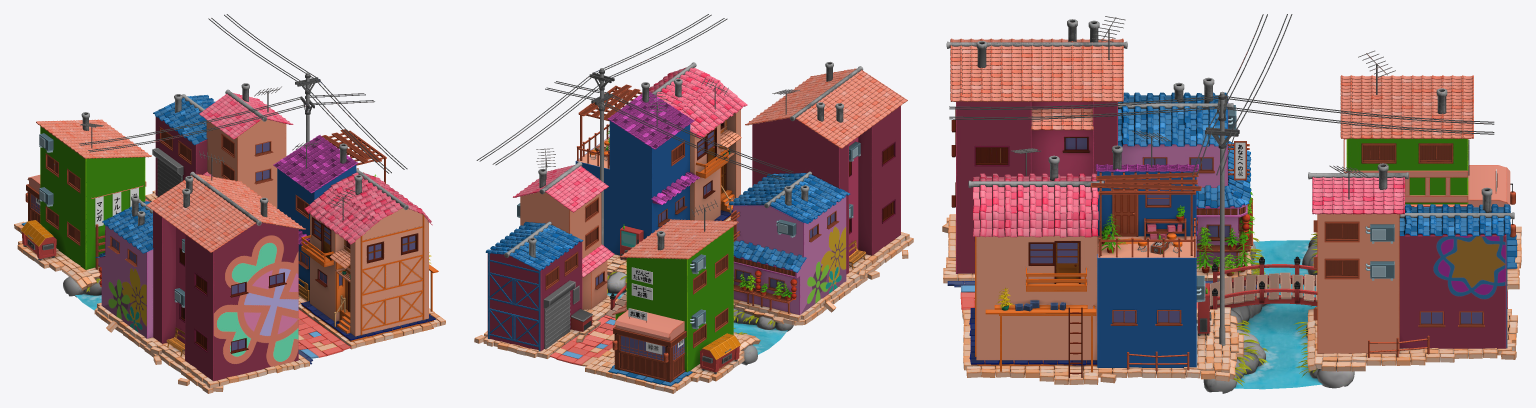
The model's file is AsianCity.fbx.
3 views of the same model, side by side, from view 1: azimuth 30°, elevation 25°; view 2: azimuth 150°, elevation 25°; view 3: azimuth 270°, elevation 25° (orthographic). The views are drawn at different scales.
Parts seen in each view (by area): view 1: DomekRdy_3, DomekRdy_1, DomekRdy_Ksiegarnia, DomekRdy_Ziemia, DomekRdy_4, DomekRdy_Kwiaciarnia, DomekRdy_2, DomekRdy_5; view 2: DomekRdy_3, DomekRdy_Ksiegarnia, DomekRdy_Ziemia, DomekRdy_Kwiaciarnia, DomekRdy_2, DomekRdy_5, DomekRdy_1, DomekRdy_4; view 3: DomekRdy_Ziemia, DomekRdy_3, DomekRdy_1, DomekRdy_2, DomekRdy_Ksiegarnia, DomekRdy_4, DomekRdy_5, DomekRdy_Kwiaciarnia.
Part boxes in pixels (x1=…): DomekRdy_3: x1=146, y1=151, x2=305, y2=381; DomekRdy_1: x1=301, y1=168, x2=438, y2=345; DomekRdy_Ksiegarnia: x1=20, y1=112, x2=151, y2=269; DomekRdy_Ziemia: x1=14, y1=14, x2=445, y2=393; DomekRdy_4: x1=199, y1=83, x2=293, y2=208; DomekRdy_Kwiaciarnia: x1=95, y1=195, x2=153, y2=338; DomekRdy_2: x1=273, y1=129, x2=386, y2=301; DomekRdy_5: x1=152, y1=94, x2=215, y2=197; DomekRdy_3: x1=745, y1=61, x2=907, y2=274; DomekRdy_Ksiegarnia: x1=608, y1=199, x2=740, y2=386; DomekRdy_Ziemia: x1=474, y1=14, x2=913, y2=393; DomekRdy_Kwiaciarnia: x1=728, y1=171, x2=850, y2=314; DomekRdy_2: x1=575, y1=82, x2=699, y2=259; DomekRdy_5: x1=485, y1=221, x2=592, y2=351; DomekRdy_1: x1=625, y1=62, x2=747, y2=220; DomekRdy_4: x1=513, y1=148, x2=614, y2=309; DomekRdy_Ziemia: x1=942, y1=14, x2=1521, y2=393; DomekRdy_3: x1=946, y1=16, x2=1127, y2=274; DomekRdy_1: x1=968, y1=148, x2=1103, y2=377; DomekRdy_2: x1=1090, y1=130, x2=1211, y2=371; DomekRdy_Ksiegarnia: x1=1340, y1=50, x2=1517, y2=268; DomekRdy_4: x1=1308, y1=163, x2=1429, y2=357; DomekRdy_5: x1=1399, y1=187, x2=1514, y2=348; DomekRdy_Kwiaciarnia: x1=1118, y1=77, x2=1255, y2=276.
Bounding box in the file's own units: 1035 × 763 × 1430.
Materials: 9 (8 with a texture image).
